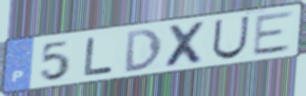5: (38, 38, 74, 83)
D: (124, 27, 165, 74)
E: (251, 9, 297, 58)
L: (82, 35, 116, 78)
U: (210, 14, 252, 61)
X: (163, 19, 209, 69)
